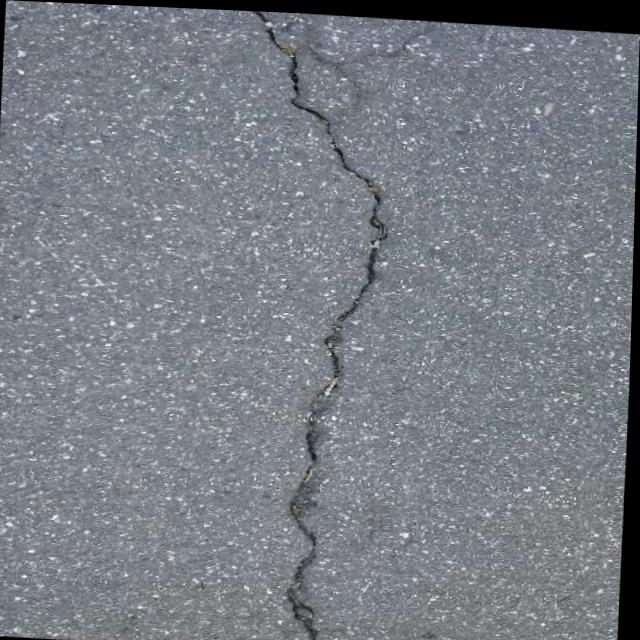Crack: (213, 8, 415, 640)
